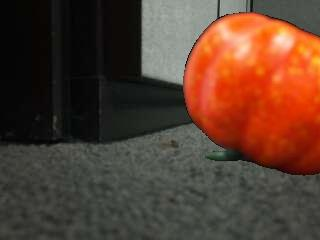Pumpkin: (183, 14, 320, 178)
